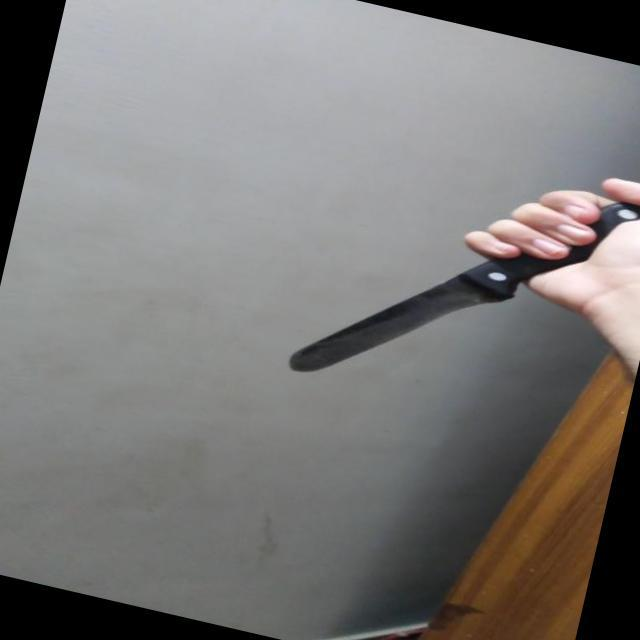Knife: (275, 123, 640, 446)
